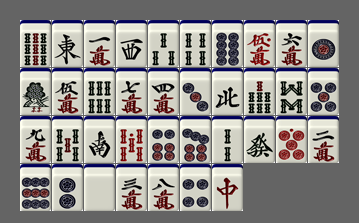0m: (244, 20, 275, 67)
0p: (276, 116, 307, 163)
0s: (116, 116, 147, 163)
1m: (84, 20, 115, 67)
1p: (308, 20, 339, 67)
1s: (20, 68, 51, 115)
1z: (52, 20, 83, 67)
2m: (308, 116, 339, 163)
2p: (52, 164, 83, 211)
2s: (212, 116, 243, 163)
2z: (84, 116, 115, 163)
3m: (116, 164, 147, 211)
3p: (180, 68, 211, 115)
3s: (148, 20, 179, 67)
3z: (116, 20, 147, 67)
4m: (148, 68, 179, 115)
4p: (180, 164, 211, 211)
4s: (180, 20, 211, 67)
4z: (212, 68, 243, 115)
5m: (52, 68, 83, 115)
5p: (308, 68, 339, 115)
5s: (52, 116, 83, 163)
5z: (84, 164, 115, 211)
6m: (276, 20, 307, 67)
6p: (148, 116, 179, 163)
6s: (84, 68, 115, 115)
6z: (244, 116, 275, 163)
7m: (116, 68, 147, 115)
7p: (180, 116, 211, 163)
7s: (244, 68, 275, 115)
7z: (212, 164, 243, 211)
8m: (148, 164, 179, 211)
8p: (212, 20, 243, 67)
8s: (276, 68, 307, 115)
9m: (20, 116, 51, 163)
9p: (20, 164, 51, 211)
9s: (20, 20, 51, 67)
